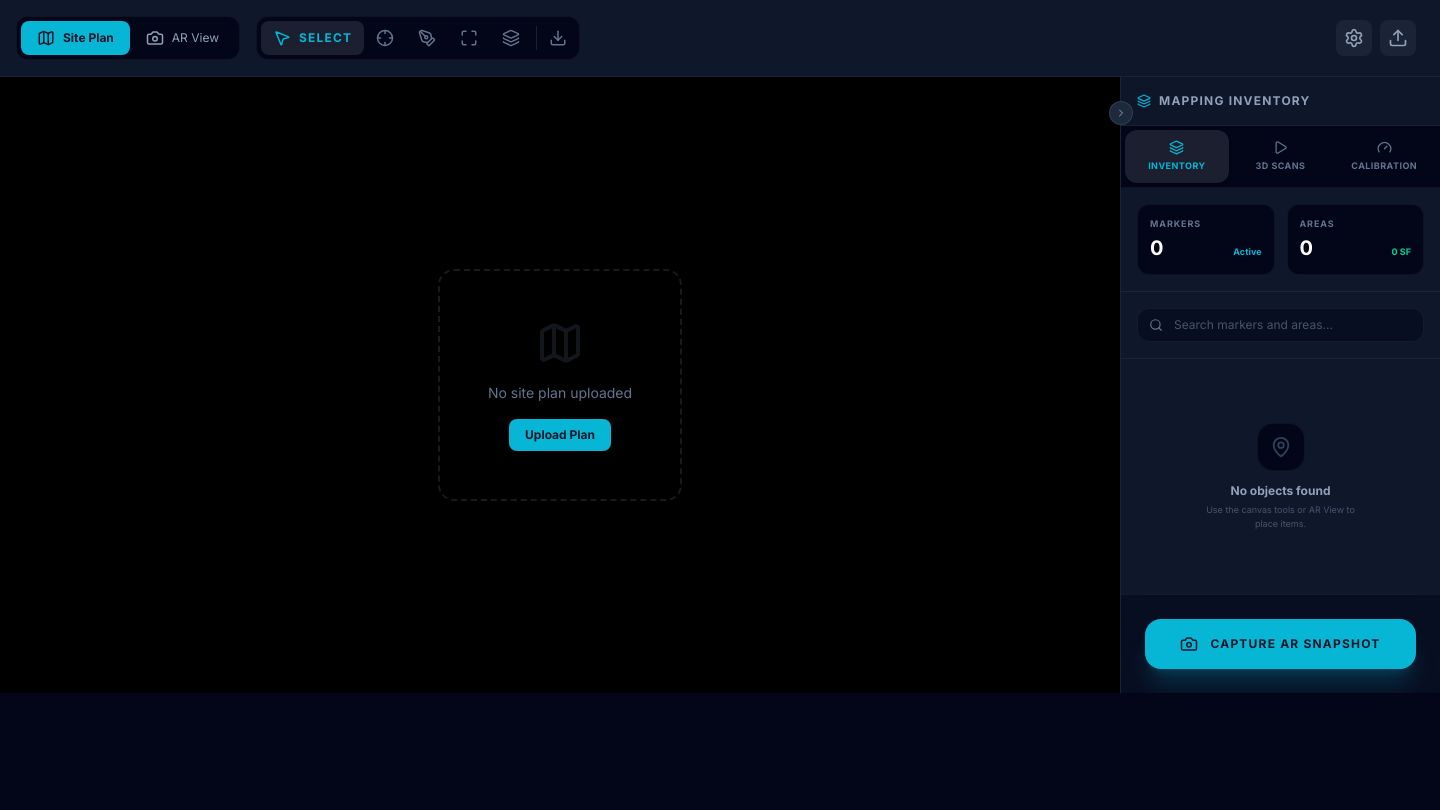
Test: ARMapping › opens the Settings panel when the Settings button is clicked
The width and height of the screenshot is (1440, 810).
Click the button titled "AR Settings" at (1354, 38), box [1336,20,1372,56]
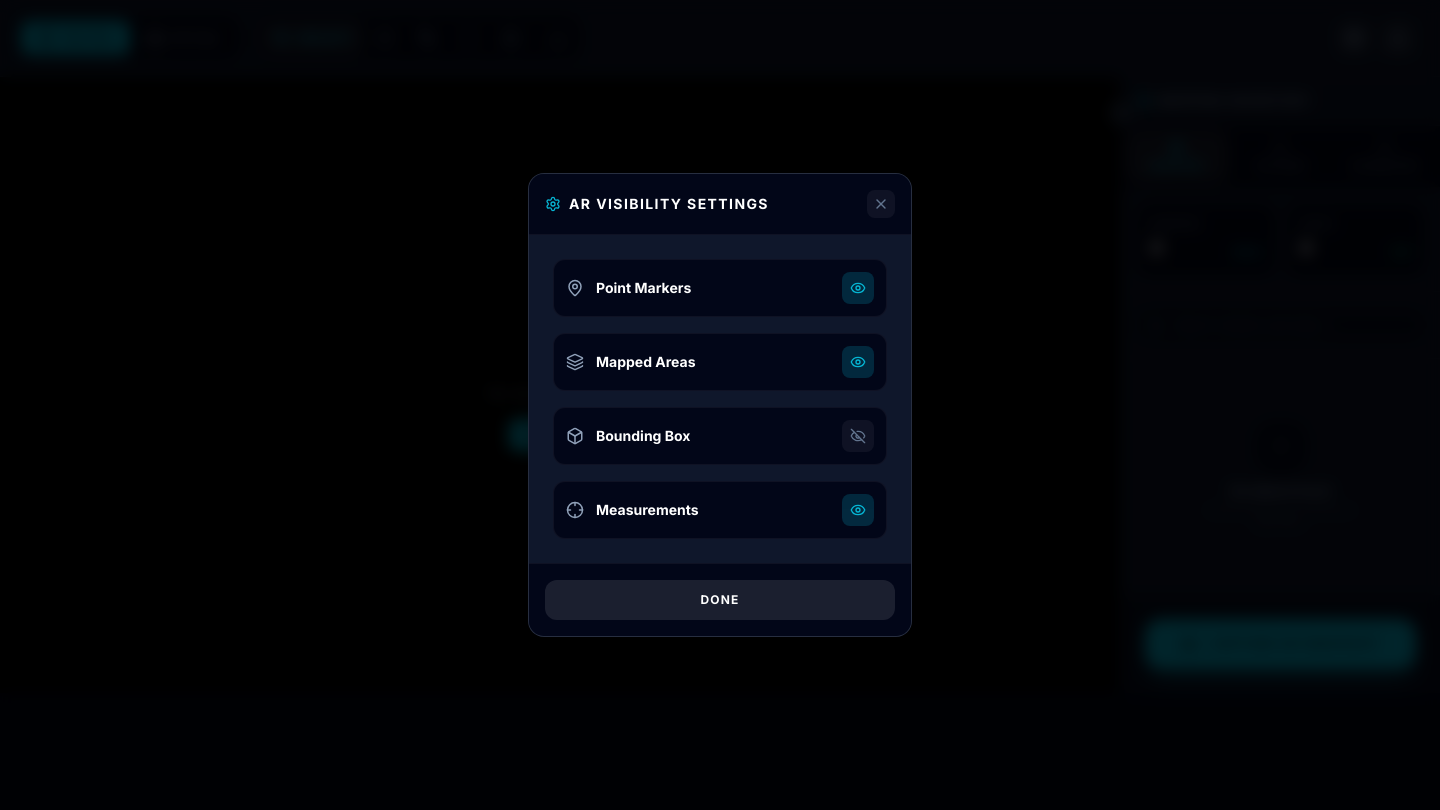
Check: the heading "AR Visibility Settings" is shown, box [545,194,769,214]
